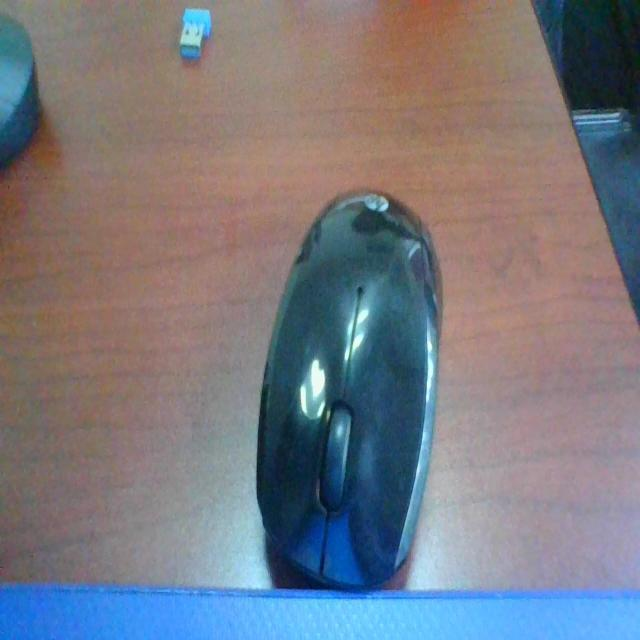mouse: (229, 166, 463, 594)
